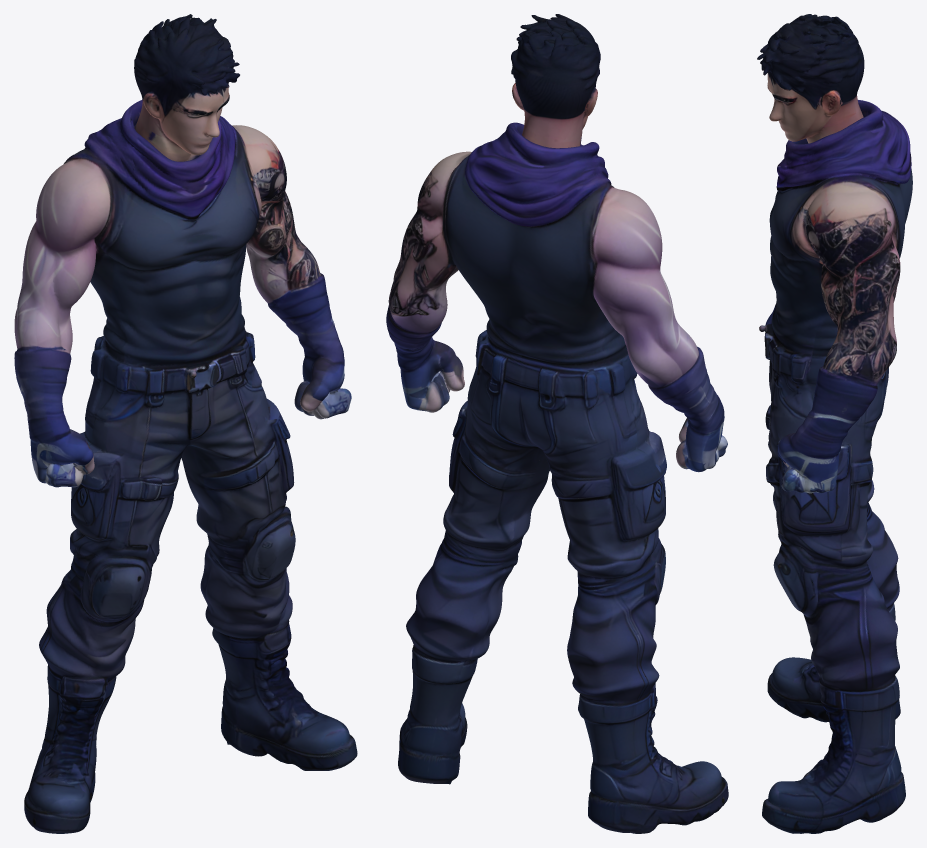
File: Eu_jjk.glb
3 renders of one model, left to right at view 1: azimuth 30°, elevation 25°; view 2: azimuth 150°, elevation 25°; view 3: azimuth 270°, elevation 25°, orthographic. The views are drawn at different scales.
Parts seen in each view (by area): view 1: tripo_node_2bae045d-beb9-49d7-8338-f1c992680d12; view 2: tripo_node_2bae045d-beb9-49d7-8338-f1c992680d12; view 3: tripo_node_2bae045d-beb9-49d7-8338-f1c992680d12.
Boxes of the visible parts, x1,y1,x2,y2 form: tripo_node_2bae045d-beb9-49d7-8338-f1c992680d12: (14, 14, 357, 833); tripo_node_2bae045d-beb9-49d7-8338-f1c992680d12: (386, 14, 728, 833); tripo_node_2bae045d-beb9-49d7-8338-f1c992680d12: (757, 14, 912, 833).
Size of the model in its own units: 0.4268 by 1 by 0.187.
1 material, 1 textured.
